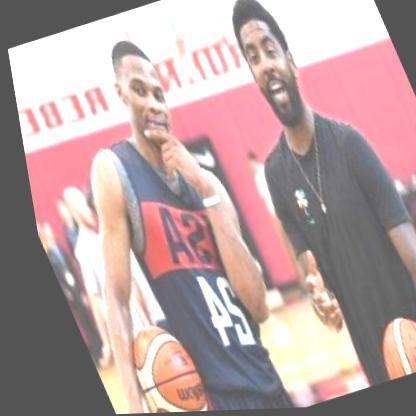basketball: (93, 309, 211, 414), (347, 307, 416, 384)
